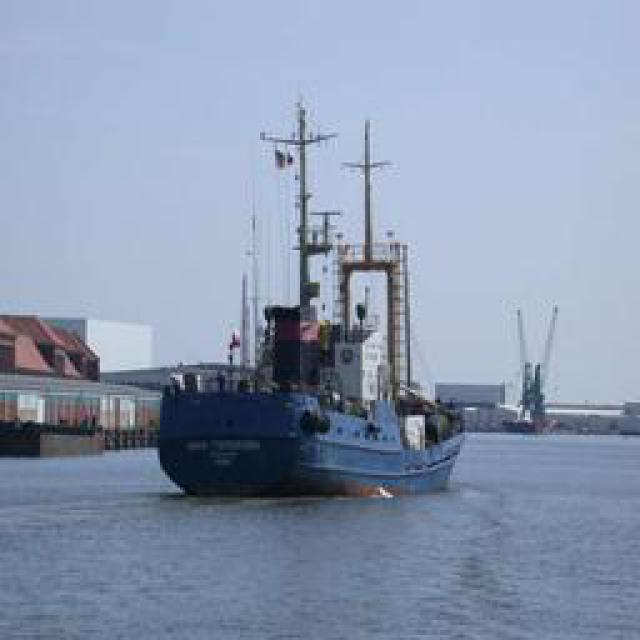Ship: (155, 83, 465, 498)
